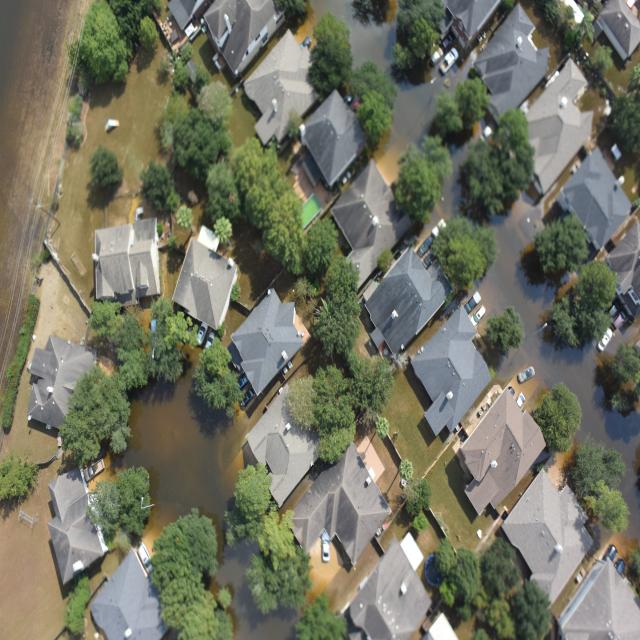fire: (480, 200, 640, 545), (114, 349, 299, 640), (374, 68, 446, 183), (298, 0, 396, 72), (449, 66, 469, 91)
